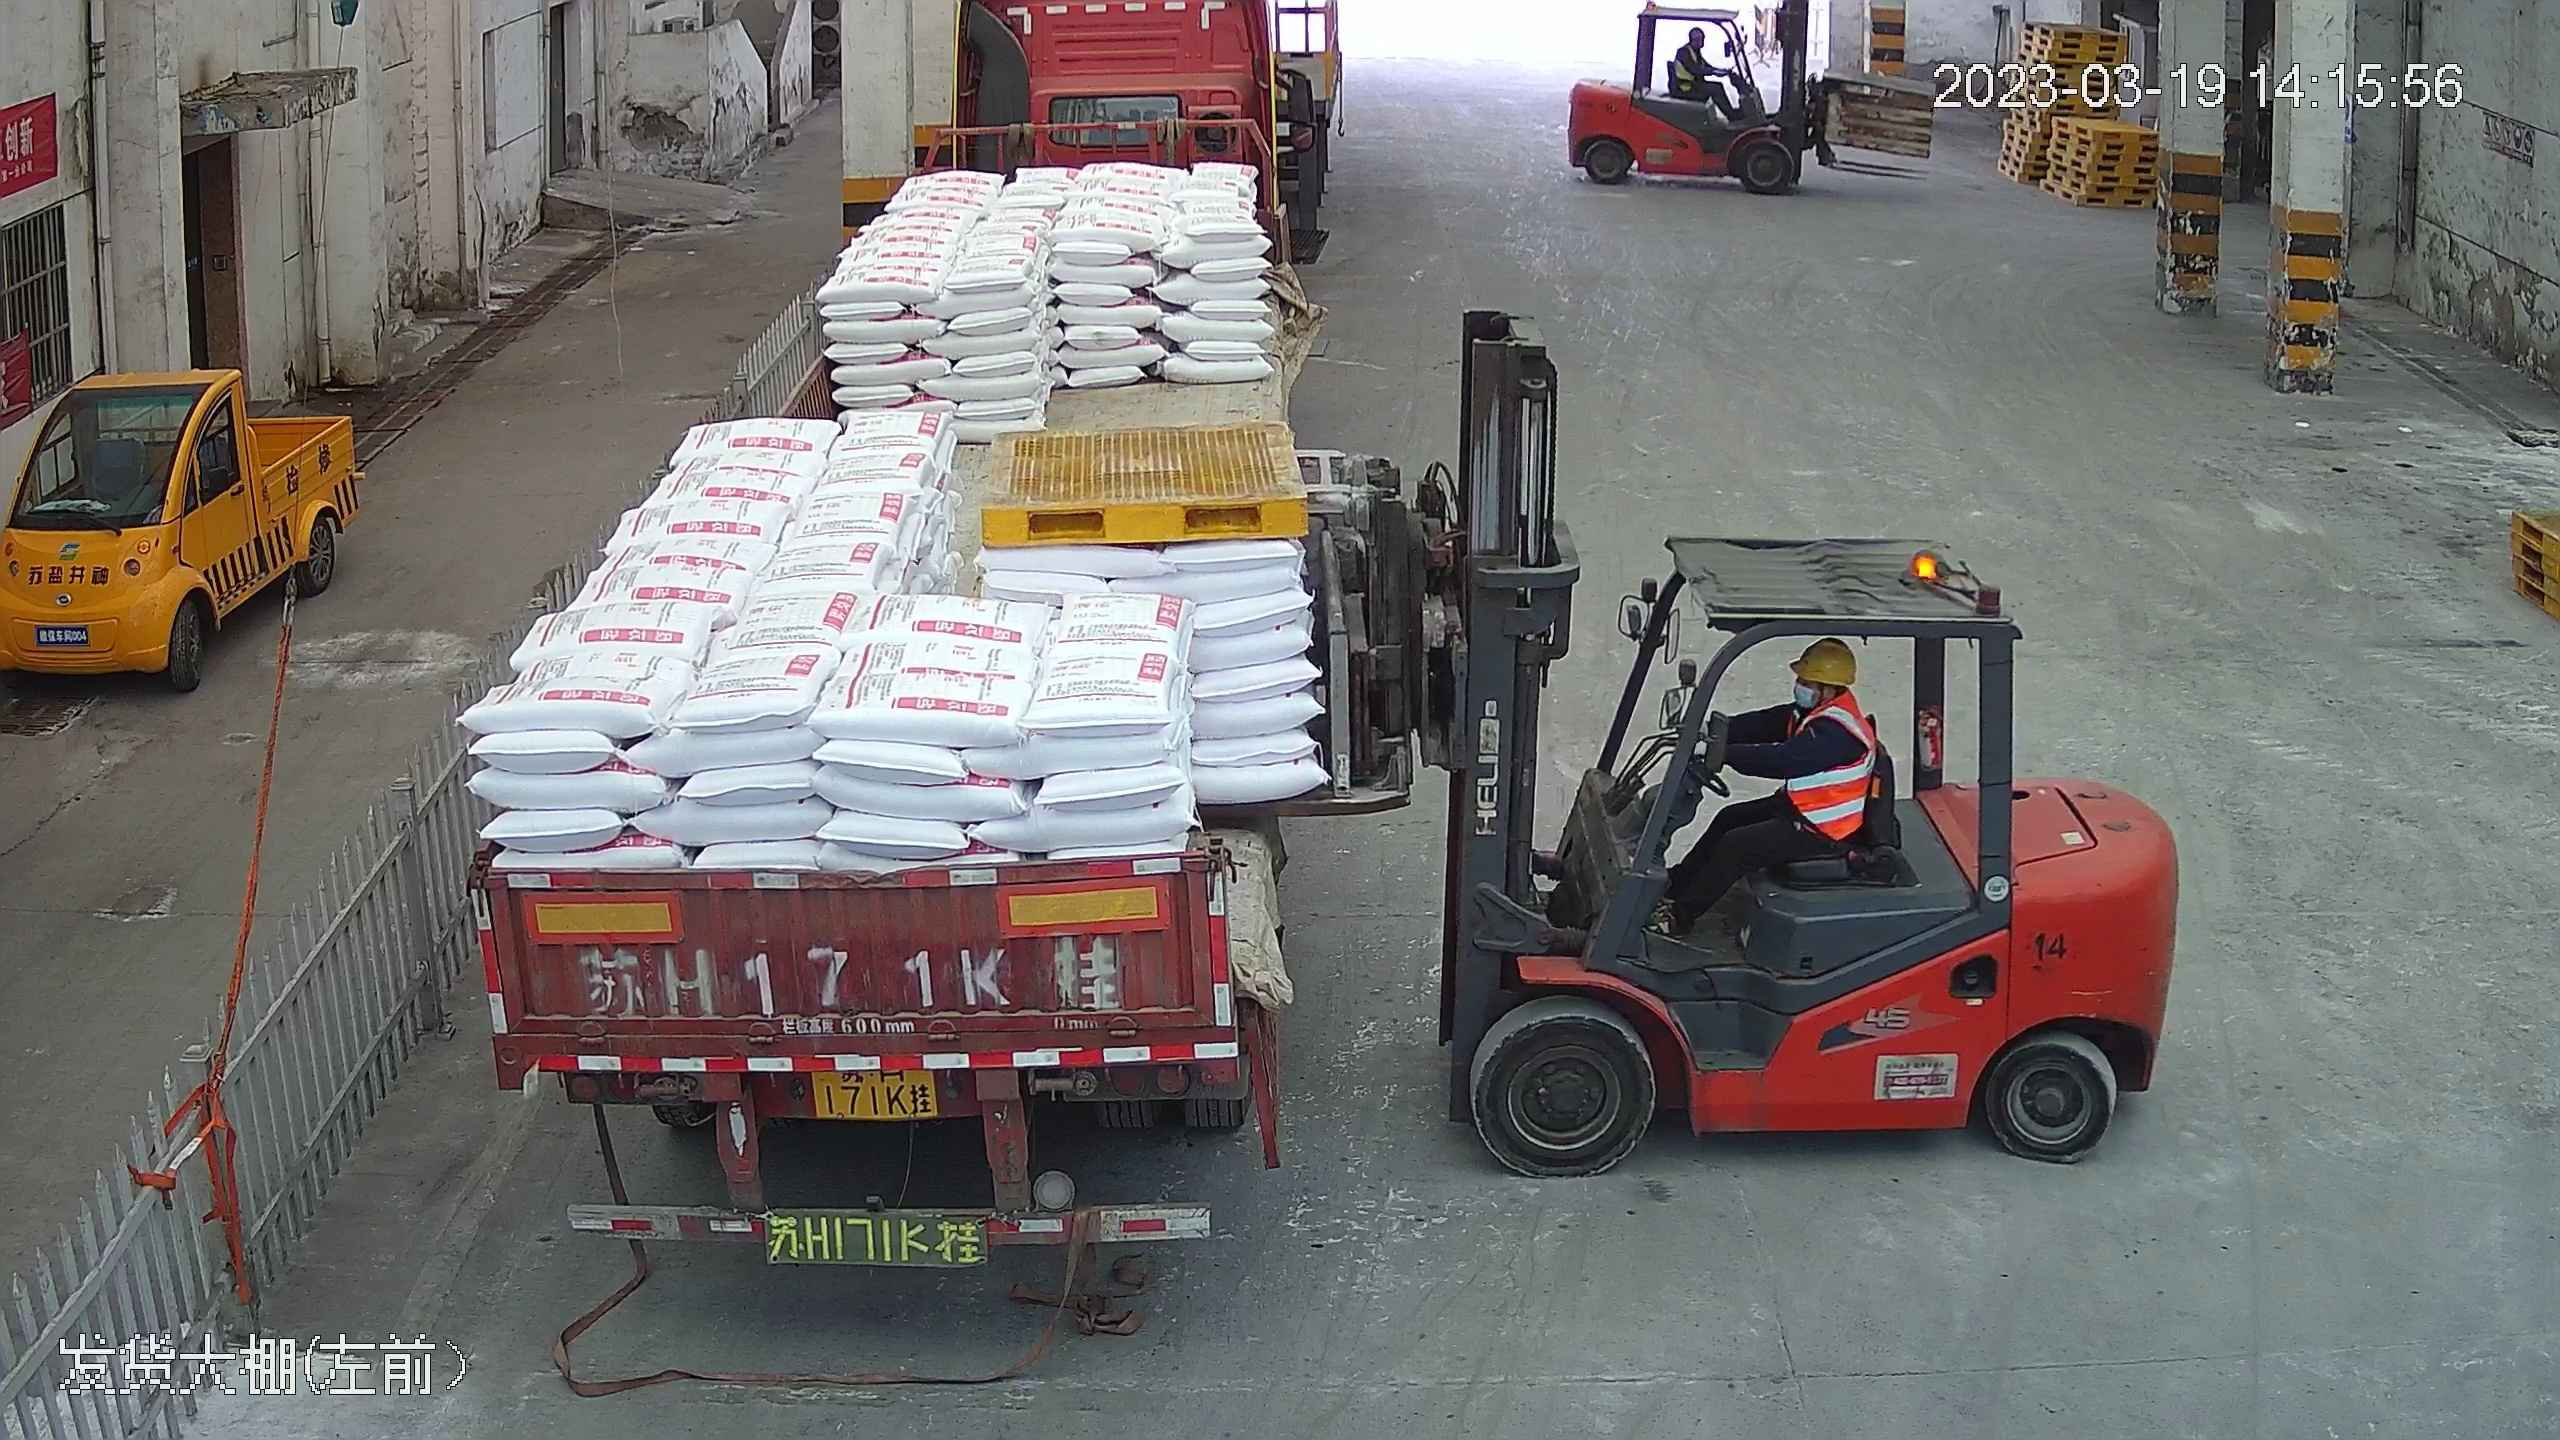head: (1755, 639, 1876, 761), (1674, 24, 1707, 64)
helmet: (1792, 635, 1860, 684), (1687, 25, 1705, 40)
people: (1655, 632, 1885, 940), (1674, 23, 1746, 122)
truck: (438, 4, 1330, 1298)
